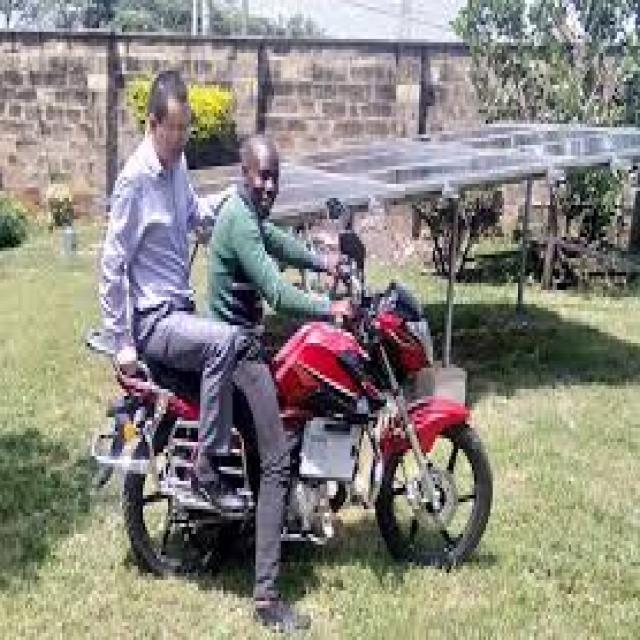bodaboda: (35, 224, 519, 594)
